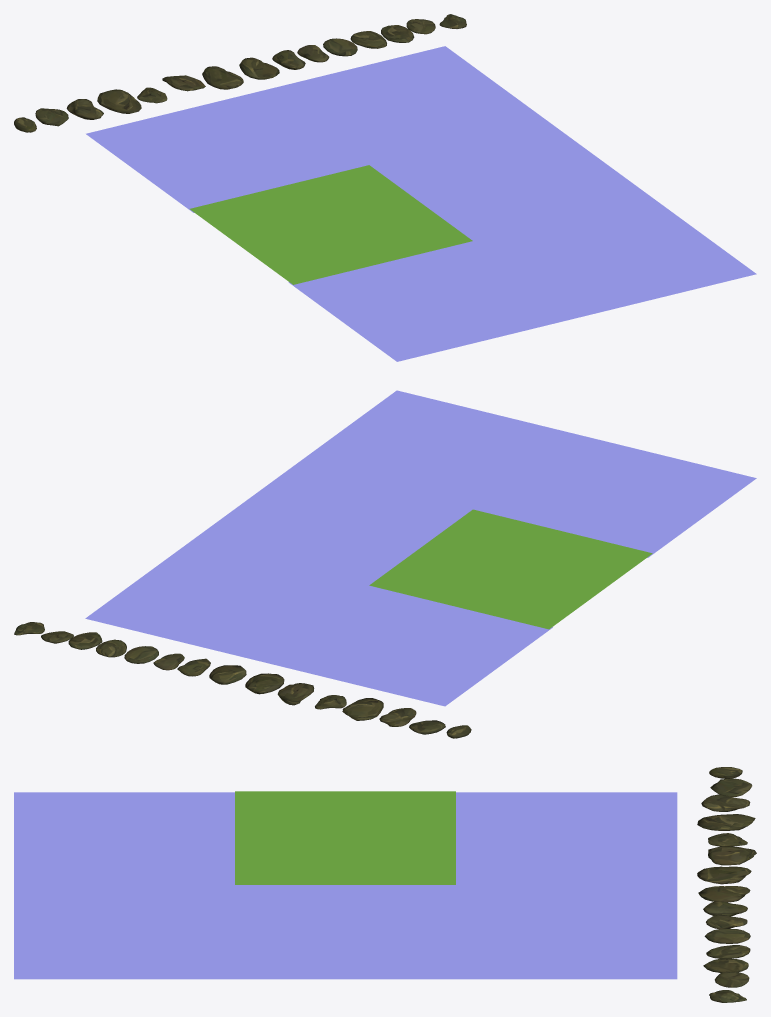
The model's file is Talukdar.fbx.
The picture shows the model from 3 angles, top to bottom: view 1: azimuth 30°, elevation 25°; view 2: azimuth 150°, elevation 25°; view 3: azimuth 270°, elevation 25°; orthographic projection. The views are drawn at different scales.
Visible parts, largest first — view 1: Water, Ground, rock.004, rock.007, rock.012; view 2: Water, Ground, rock.004, rock.007; view 3: Water, Ground, rock.004, rock.007, rock.015, rock.012, rock.003, rock.002, rock.001, rock.008, rock.014, rock.010 (+3 smaller).
Part boxes in pixels (box(x1,y1,x2,y2)): Water: box(86, 46, 756, 361); Ground: box(190, 165, 472, 284); rock.004: box(97, 89, 141, 113); rock.007: box(202, 66, 243, 89); rock.012: box(239, 57, 279, 79); Water: box(85, 390, 756, 706); Ground: box(369, 509, 652, 629); rock.004: box(342, 698, 383, 720); rock.007: box(245, 673, 284, 694); Water: box(14, 792, 677, 979); Ground: box(235, 791, 455, 884); rock.004: box(697, 814, 755, 830); rock.007: box(697, 866, 751, 884); rock.015: box(708, 846, 756, 865); rock.012: box(698, 886, 750, 902); rock.003: box(701, 794, 750, 811); rock.002: box(710, 778, 752, 796); rock.001: box(704, 928, 750, 943); rock.008: box(703, 958, 748, 972); rock.014: box(703, 901, 747, 916); rock.010: box(706, 945, 750, 958).
Size of the model in its own units: 9986 by 163 by 13445.
Materials: 3 (1 with a texture image).
